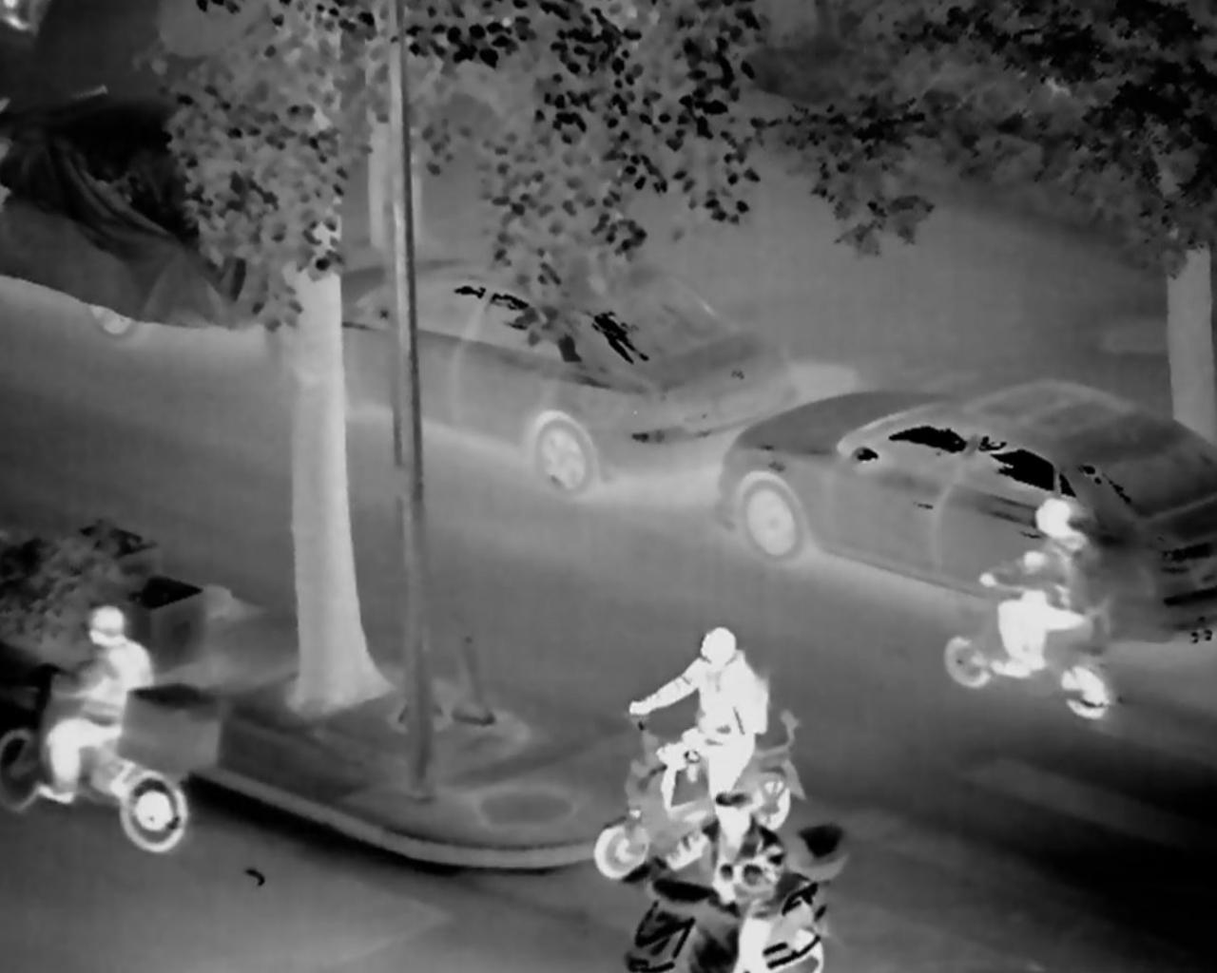person: (622, 626, 797, 860), (653, 778, 812, 973), (50, 601, 178, 830), (987, 495, 1107, 715)
